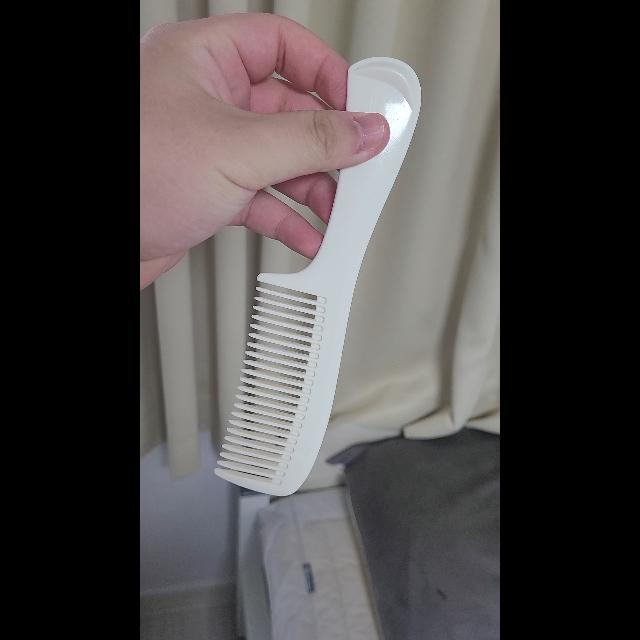COMB: (214, 56, 422, 498)
